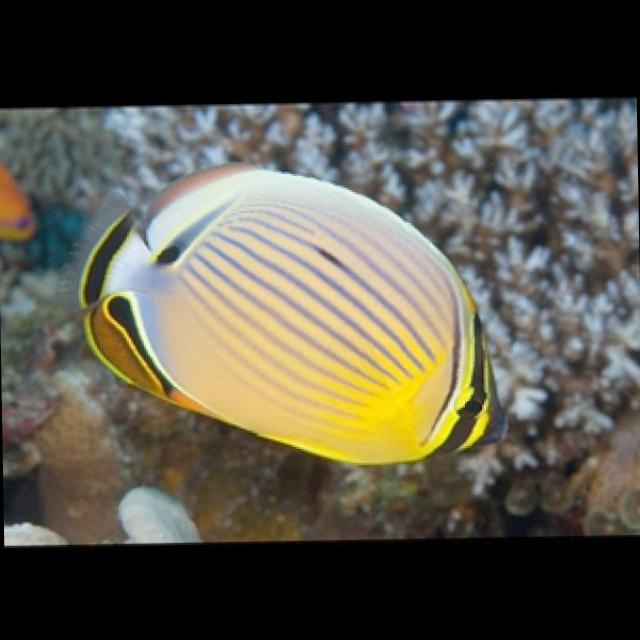ButterflyFish: (79, 157, 528, 474)
